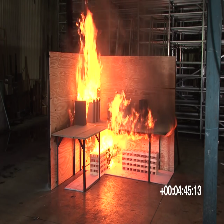fire: (74, 15, 102, 101), (92, 132, 131, 156), (108, 93, 130, 127)
